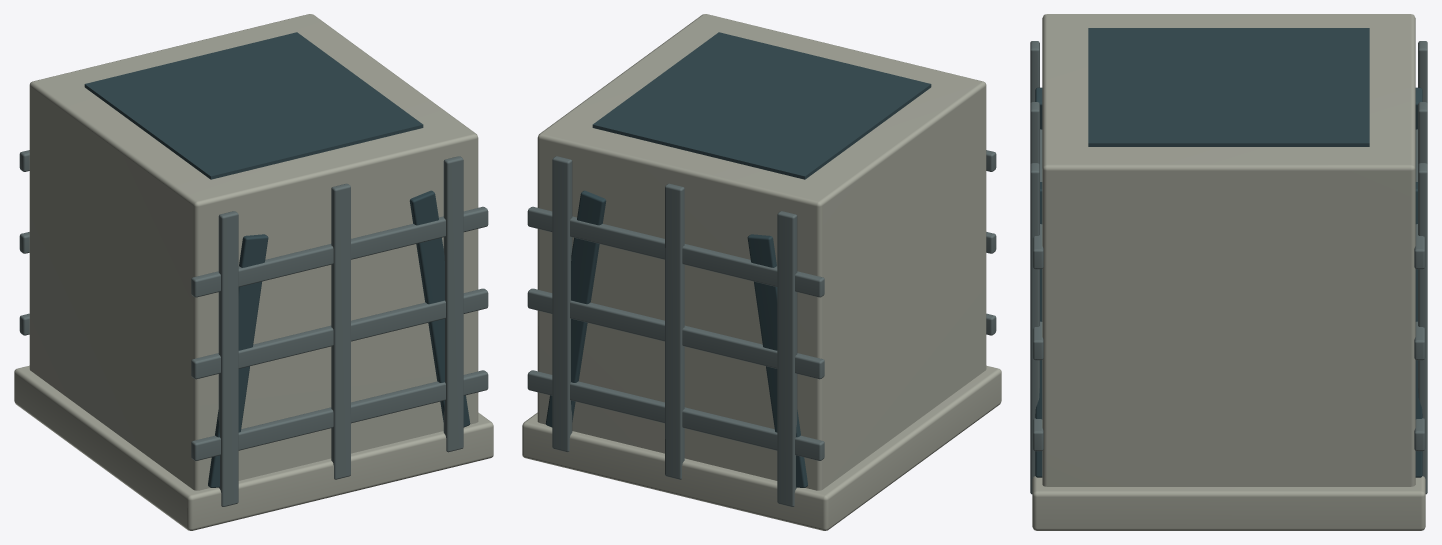
Rendered from abutment-base-1.glb.
The picture shows the model from 3 angles, left to right: view 1: azimuth 30°, elevation 25°; view 2: azimuth 150°, elevation 25°; view 3: azimuth 270°, elevation 25°; orthographic projection. The views are drawn at different scales.
Visible parts, largest first — view 1: abutment_1, abutment_2, abutment_0; view 2: abutment_1, abutment_2, abutment_0; view 3: abutment_1, abutment_2, abutment_0.
Boxes of the visible parts, box(x1,y1,x2,y2) form: abutment_1: box(14, 14, 493, 530); abutment_2: box(84, 32, 470, 487); abutment_0: box(19, 150, 488, 506); abutment_1: box(522, 14, 1001, 530); abutment_2: box(545, 32, 931, 487); abutment_0: box(527, 150, 996, 506); abutment_1: box(1032, 14, 1425, 530); abutment_2: box(1035, 28, 1422, 477); abutment_0: box(1030, 41, 1427, 494).
Bounding box in the file's own units: 0.98 × 1 × 0.99.
